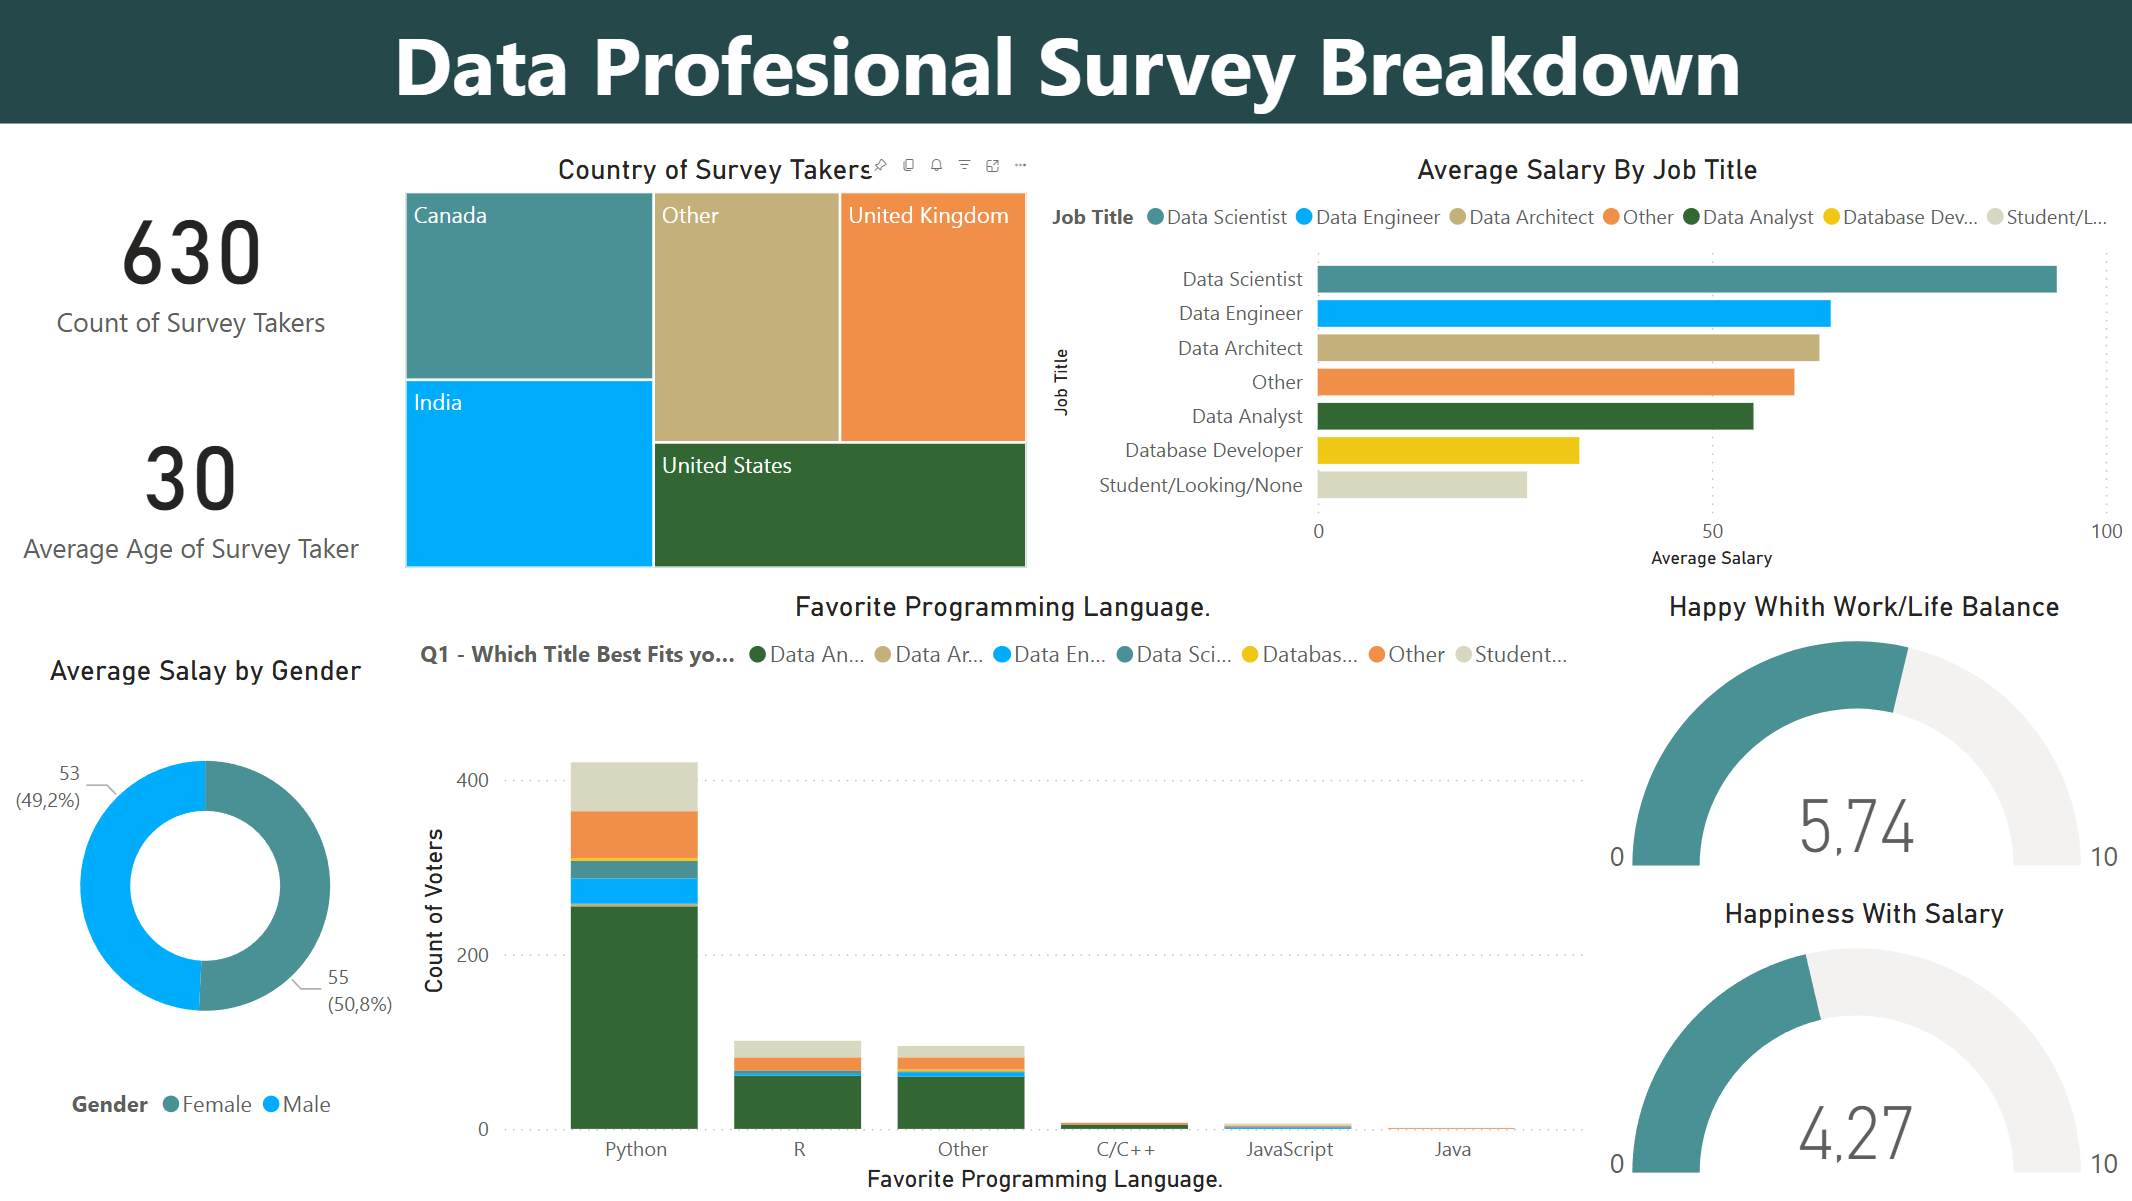

Layout of this report page (visuals, bound fields, positions):
{"tool":"powerbi","page":{"name":"Página 1","canvas":[1280,720],"ordinal":0},"visuals":[{"type":"textbox","box":[0,0,1280,73.9],"z":0},{"type":"card","fields":{"Values":["Count(Data Professional Survey.Unique ID)"]},"box":[0,91.1,229.6,127.3],"z":1000},{"type":"card","fields":{"Values":["Avg(Data Professional Survey.Q10 - Current Age)"]},"box":[0,226.3,229.6,126.7],"z":2000},{"type":"barChart","title":"Average Salary By Job Title","fields":{"Category":["Data Professional Survey.Q1 - Which Title Best Fits your Current Role?.1"],"Y":["Avg(Data Professional Survey.Average Salary)"],"Series":["Data Professional Survey.Q1 - Which Title Best Fits your Current Role?.1"]},"box":[626.1,91.1,651.2,254],"z":3000},{"type":"columnChart","title":"Favorite Programming Language.","fields":{"Category":["Data Professional Survey.Q5 - Favorite Programming Language.1"],"Y":["CountNonNull(Data Professional Survey.Unique ID)"],"Series":["Data Professional Survey.Q1 - Which Title Best Fits your Current Role?.1"]},"box":[247.4,353,707.3,366.8],"z":4000},{"type":"treemap","title":"Country of Survey Takers","fields":{"Group":["Data Professional Survey.Q11 - Which Country do you live in?.1"],"Values":["Count(Data Professional Survey.Q11 - Which Country do you live in?.1)"]},"box":[238.2,91.1,382,254],"z":5000},{"type":"gauge","title":"Happy Whith Work/Life Balance","fields":{"Y":["Avg(Data Professional Survey.Q6 - How Happy are you in your Current Position with the following? (Work/Life Balance))"],"MinValue":["Min(Data Professional Survey.Q6 - How Happy are you in your Current Position with the following? (Work/Life Balance))1"],"MaxValue":["Max(Data Professional Survey.Q6 - How Happy are you in your Current Position with the following? (Work/Life Balance))2"]},"box":[954.7,353,325.3,183.4],"z":6000},{"type":"gauge","title":"Happiness With Salary","fields":{"Y":["Avg(Data Professional Survey.Q6 - How Happy are you in your Current Position with the following? (Salary))"],"MinValue":["Min(Data Professional Survey.Q6 - How Happy are you in your Current Position with the following? (Salary))"],"MaxValue":["Max(Data Professional Survey.Q6 - How Happy are you in your Current Position with the following? (Salary))"]},"box":[954.7,536.4,325.3,183.4],"z":7000},{"type":"donutChart","title":"Average Salay by Gender","fields":{"Category":["Data Professional Survey.Q9 - Male/Female?"],"Y":["Avg(Data Professional Survey.Average Salary)"]},"box":[0,391.3,247.4,289.6],"z":8000}]}

Visuals, with their boxes in screenshot pixels (x1, y1, x2, y2), scaled from the page's 1280x720 canvas onto the 2132x1201 screenshot:
textbox: 0 0 2131 123
card - Count(Data Professional Survey.Unique ID): 0 152 382 364
card - Avg(Data Professional Survey.Q10 - Current Age): 0 377 382 589
"Average Salary By Job Title" barChart: 1043 152 2128 576
"Favorite Programming Language." columnChart: 412 589 1590 1200
"Country of Survey Takers" treemap: 397 152 1033 576
"Happy Whith Work/Life Balance" gauge: 1590 589 2131 895
"Happiness With Salary" gauge: 1590 895 2131 1200
"Average Salay by Gender" donutChart: 0 653 412 1136
